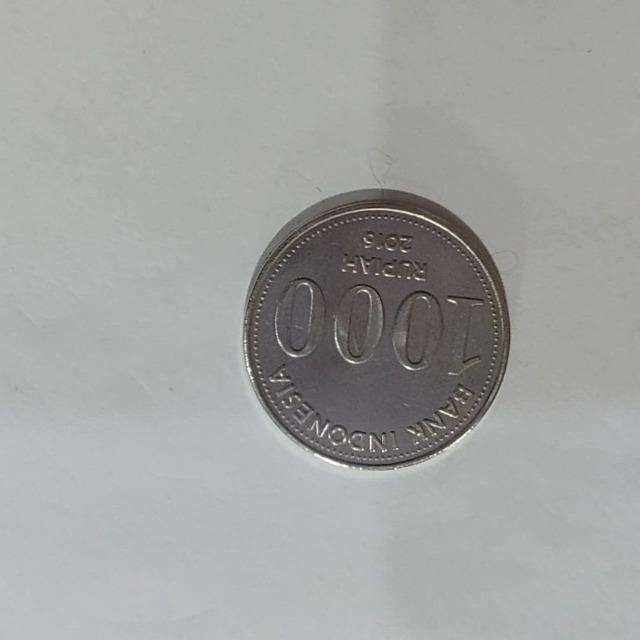Rp100: (240, 186, 512, 472)
